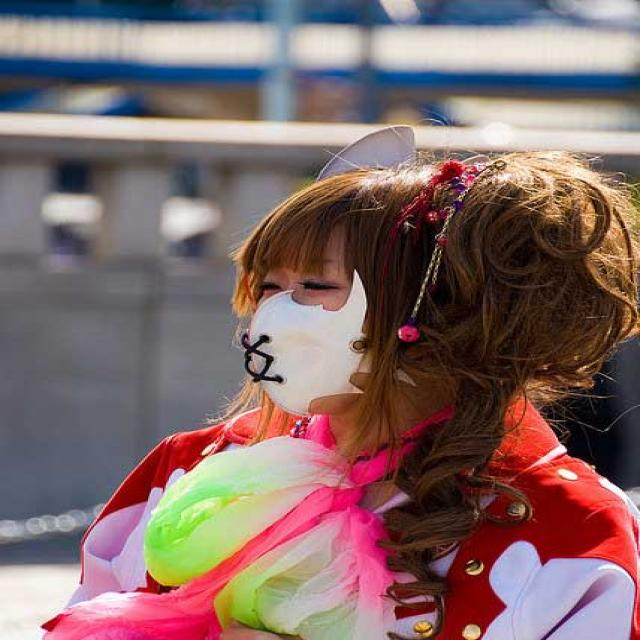mask: (242, 236, 362, 415)
